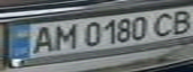0: (78, 19, 103, 47), (130, 13, 154, 42)
1: (100, 17, 118, 45)
8: (115, 16, 136, 43)
A: (24, 24, 57, 55)
B: (166, 7, 193, 35)
C: (148, 10, 181, 38)
M: (48, 21, 78, 52)
